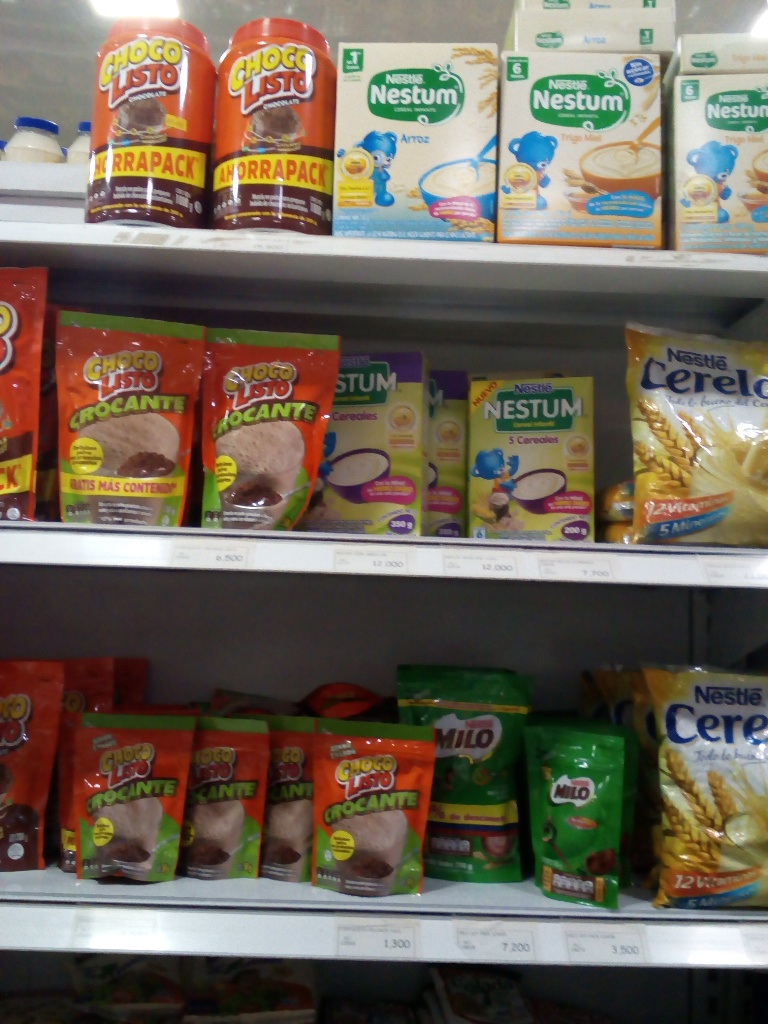COL0170102DYP10000: (70, 715, 187, 885)
COL0170102DYP25000: (198, 300, 326, 534)
COL0170103TRR00100: (93, 13, 211, 226)
COL0170203DYP10000: (519, 719, 625, 914)
COL0170203DYP25000: (398, 668, 529, 886)
